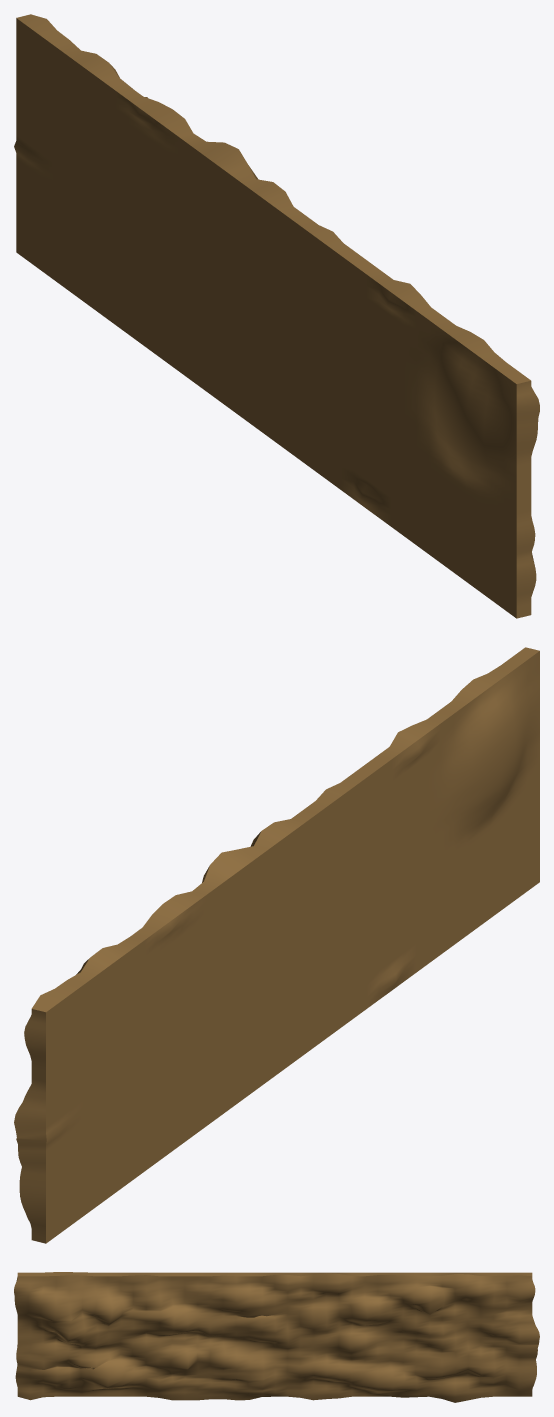
File: cave wall.fbx
3 renders of one model, top to bottom at view 1: azimuth 30°, elevation 25°; view 2: azimuth 150°, elevation 25°; view 3: azimuth 270°, elevation 25°, orthographic. The views are drawn at different scales.
Parts seen in each view (by area): view 1: cave_wall; view 2: cave_wall; view 3: cave_wall.
Boxes of the visible parts, x1,y1,x2,y2 form: cave_wall: (14, 14, 539, 618); cave_wall: (14, 647, 539, 1243); cave_wall: (14, 1272, 539, 1402).
Bounding box in the file's own units: 4.16 × 15.05 × 55.15.
